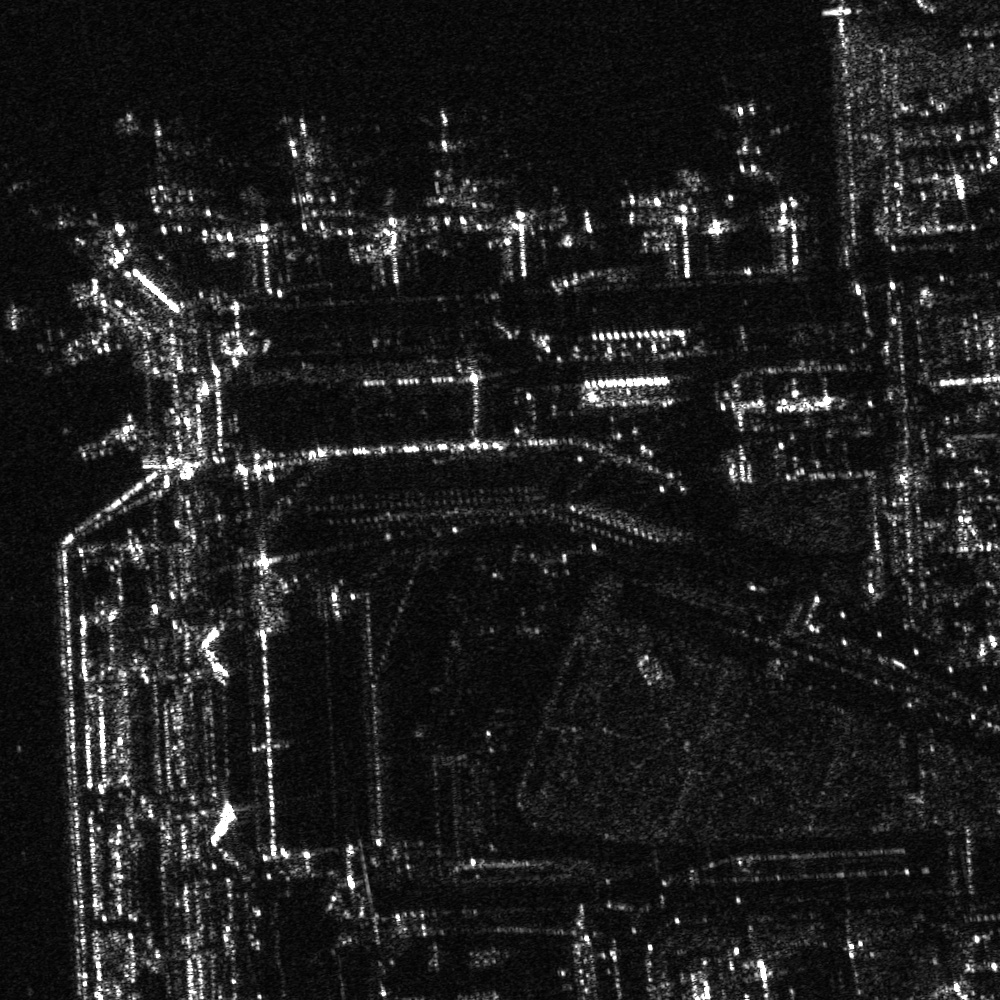A220: (276, 110, 342, 206), (716, 95, 788, 182)
Boeing787: (415, 103, 474, 183)
other: (130, 110, 209, 220)
